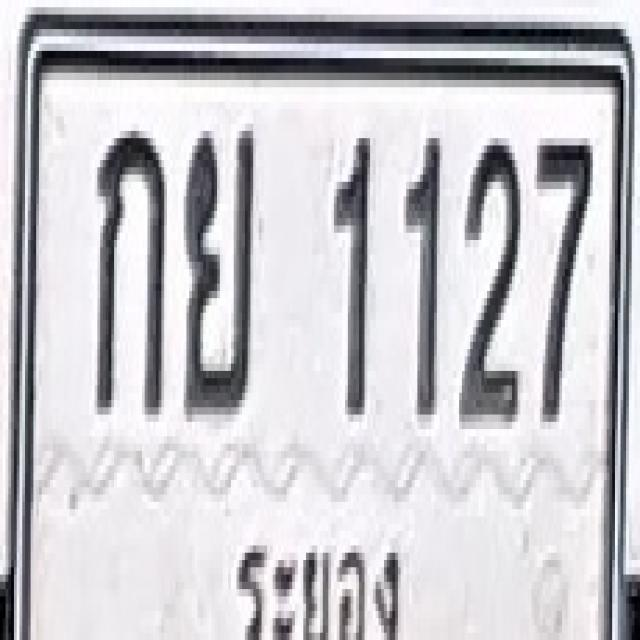1: (332, 131, 372, 414), (404, 135, 439, 418)
2: (459, 131, 520, 422)
7: (536, 131, 591, 422)
A01: (95, 123, 164, 414)
A34: (182, 123, 255, 414)
RYG: (228, 511, 406, 640)
